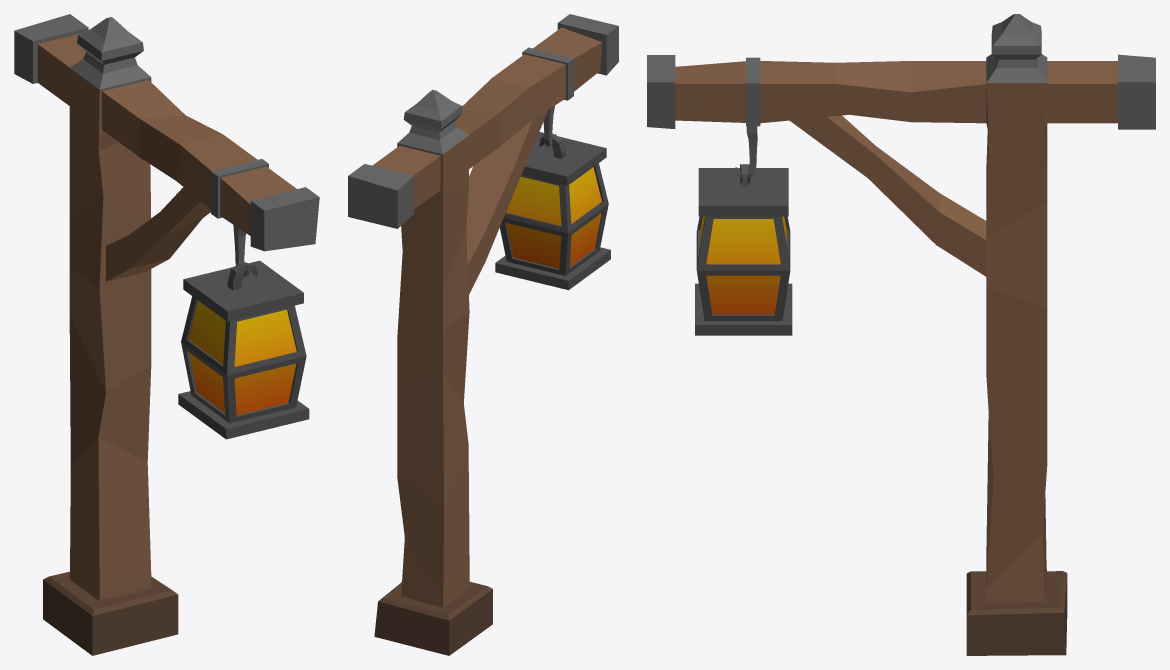
Rendered from Lamp_2.fbx.
3 renders of one model, left to right at view 1: azimuth 30°, elevation 25°; view 2: azimuth 150°, elevation 25°; view 3: azimuth 270°, elevation 25°, orthographic. The views are drawn at different scales.
Visible parts, largest first — view 1: Lamp_2; view 2: Lamp_2; view 3: Lamp_2.
Part boxes in pixels (<box>): Lamp_2: <box>14,14,319,655</box>; Lamp_2: <box>348,14,618,655</box>; Lamp_2: <box>647,14,1155,655</box>.
Size of the model in its own units: 24.04 by 163 by 121.
